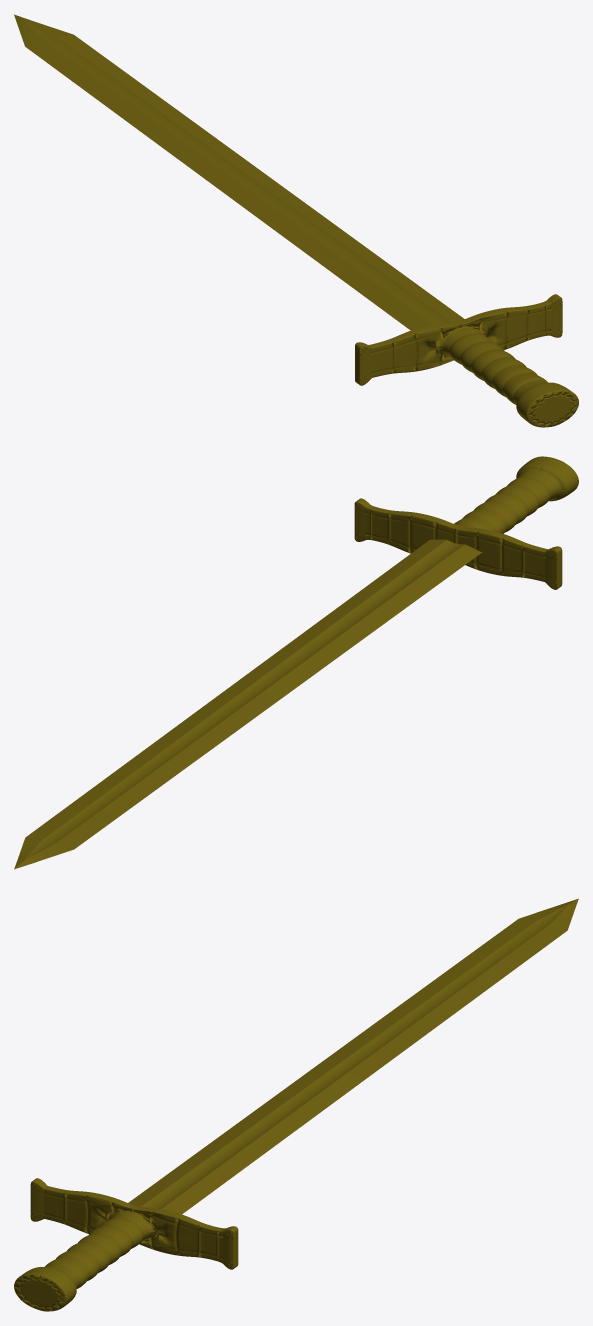
The model's file is sword-2.glb.
The picture shows the model from 3 angles, top to bottom: view 1: azimuth 30°, elevation 25°; view 2: azimuth 150°, elevation 25°; view 3: azimuth 330°, elevation 25°; orthographic projection.
Visible parts, largest first — view 1: mesh-shen; view 2: mesh-shen; view 3: mesh-shen.
Part boxes in pixels (box(x1,y1,x2,y2)): mesh-shen: box(14, 14, 578, 427); mesh-shen: box(14, 456, 578, 869); mesh-shen: box(14, 898, 578, 1311).
Size of the model in its own units: 2.93 by 0.5509 by 13.42.
